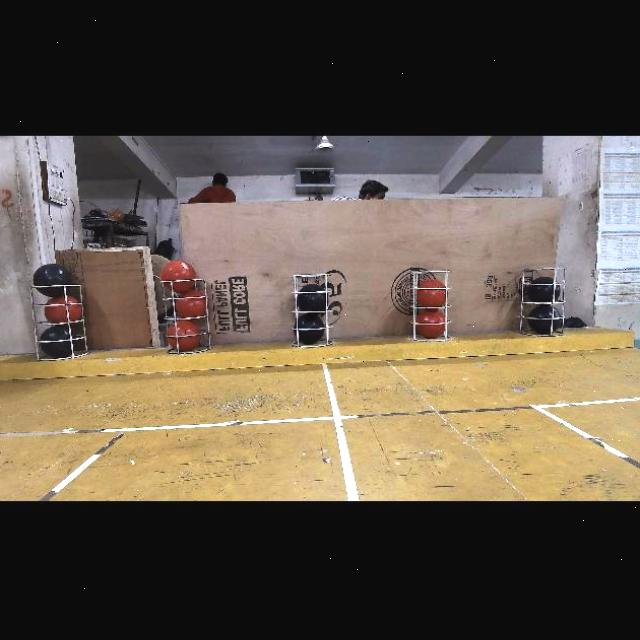P: (32, 263, 72, 296), (40, 326, 76, 360), (293, 314, 325, 346), (528, 306, 562, 336), (296, 284, 328, 312), (527, 277, 559, 305)
R: (161, 259, 196, 292), (48, 296, 82, 324), (416, 307, 446, 338), (417, 280, 447, 308), (168, 320, 200, 346), (177, 291, 207, 315)
S: (31, 281, 93, 359), (162, 274, 214, 358), (515, 258, 567, 338), (409, 260, 457, 338), (290, 266, 332, 348)
